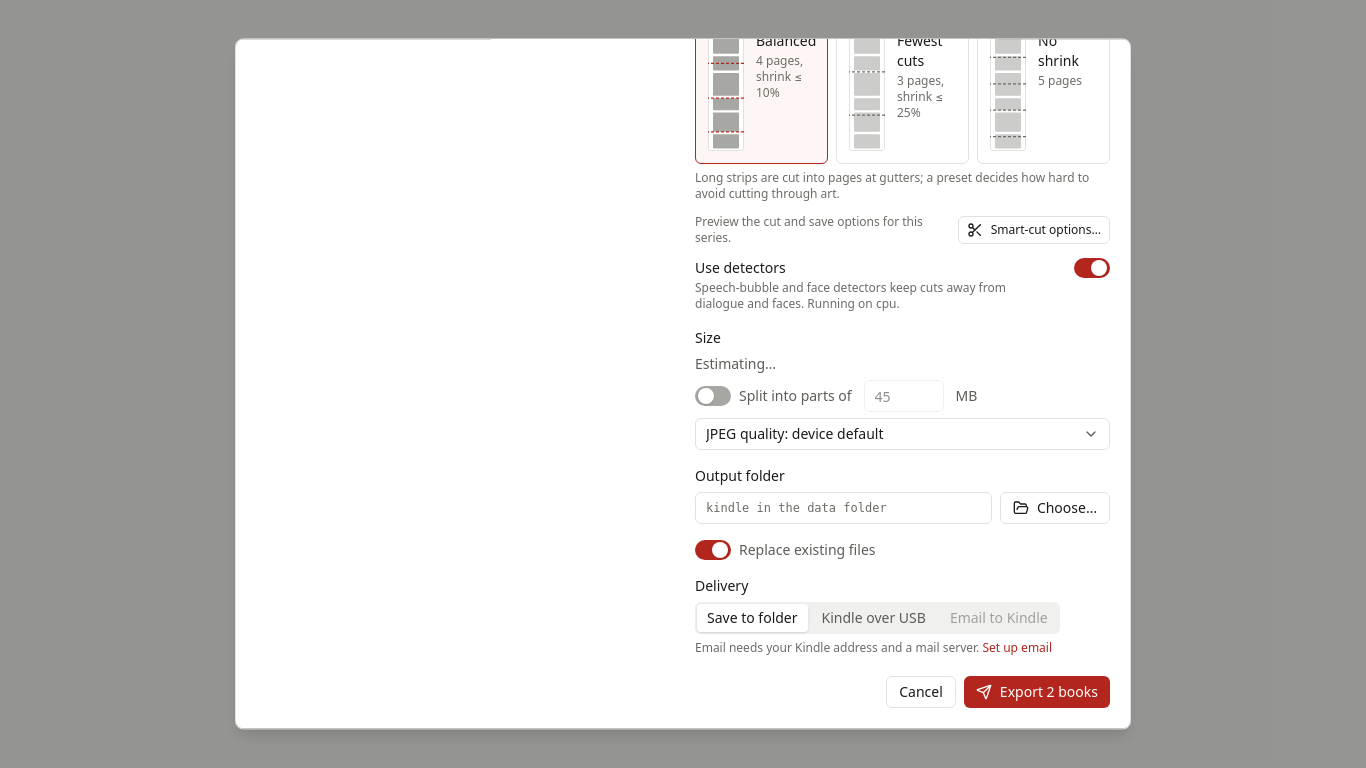
Test: Try again preview with Replace on (#337) › names a same-titled newcomer as the retry writes it, around the kept file
The image size is (1366, 768).
Later steps or results of the test are not shown.
(page scrolled)
Click the button "Export 2 books" at (1037, 692), box x1=964 y1=676 x2=1110 y2=708
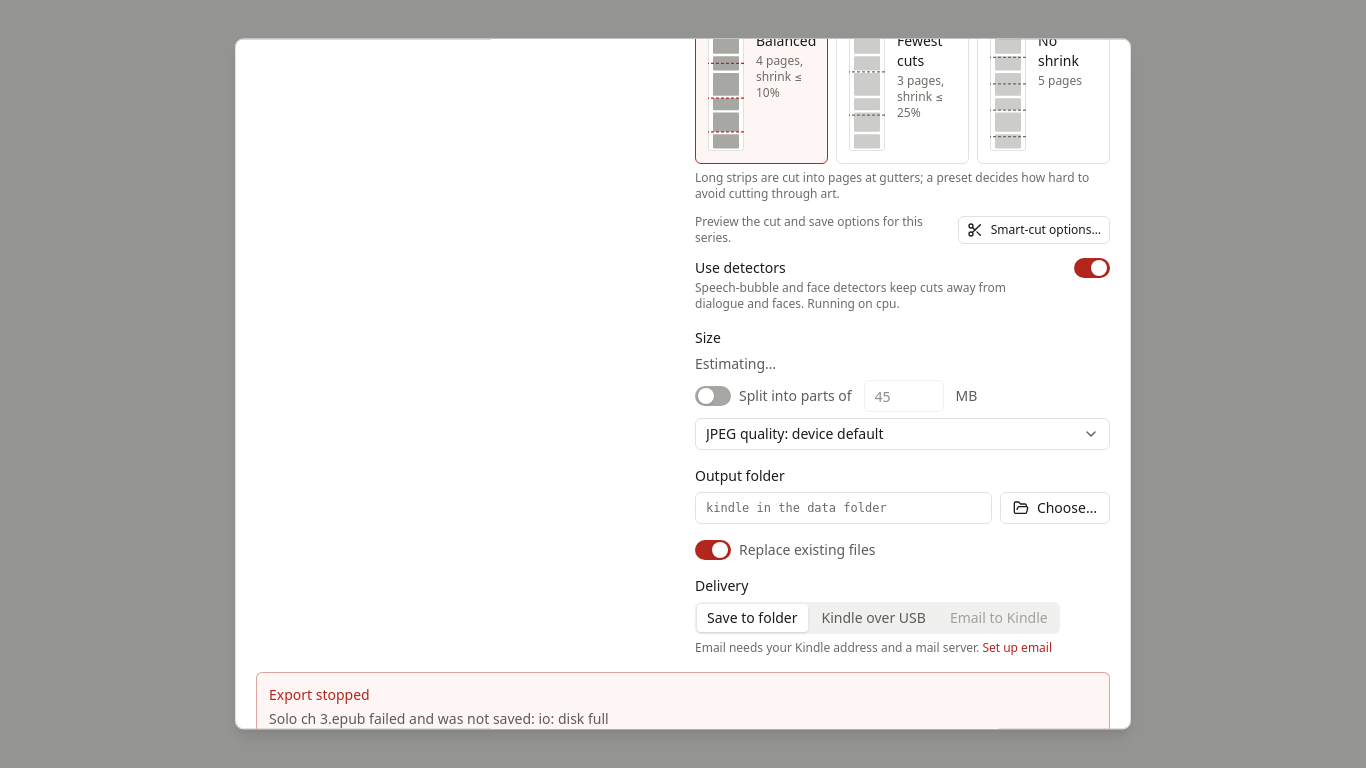
Expected: the text "Export stopped" is shown, x1=269 y1=685 x2=370 y2=704
